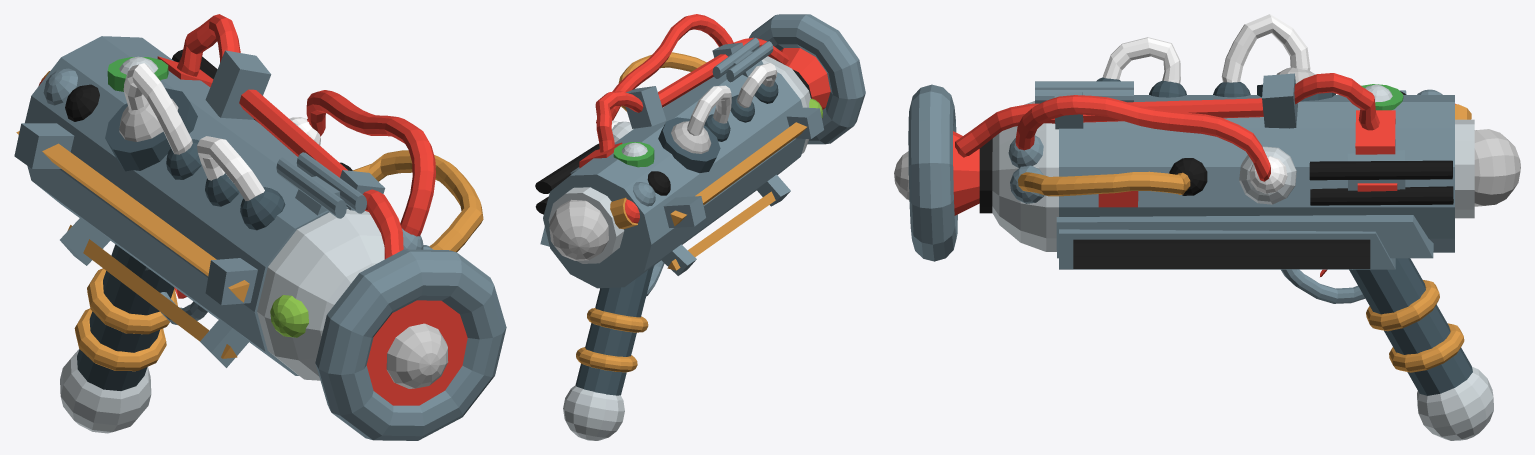
Rendered from gun1.fbx.
The picture shows the model from 3 angles, left to right: view 1: azimuth 30°, elevation 25°; view 2: azimuth 150°, elevation 25°; view 3: azimuth 270°, elevation 25°; orthographic projection. The views are drawn at different scales.
Parts seen in each view (by area): view 1: Gun1; view 2: Gun1; view 3: Gun1.
Part boxes in pixels (x1,y1,x2,y2): Gun1: (14,14,506,440); Gun1: (535,14,865,440); Gun1: (894,14,1520,440).
Size of the model in its own units: 307 by 504 by 730.
